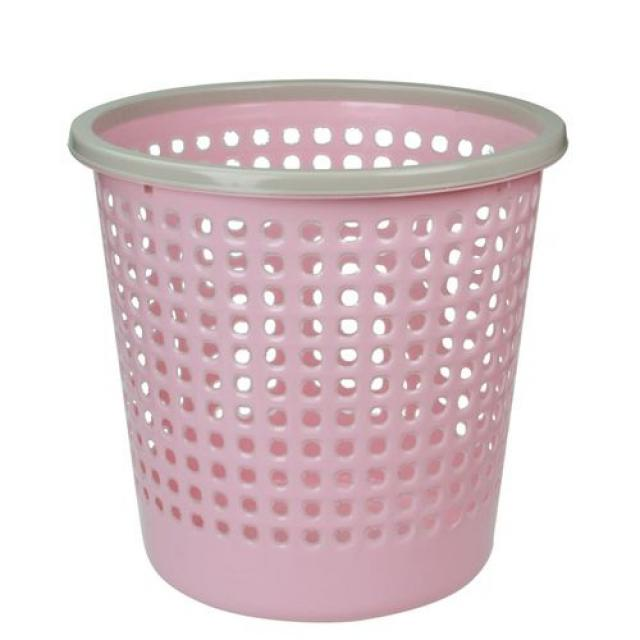Dustbin: (62, 74, 572, 630)
